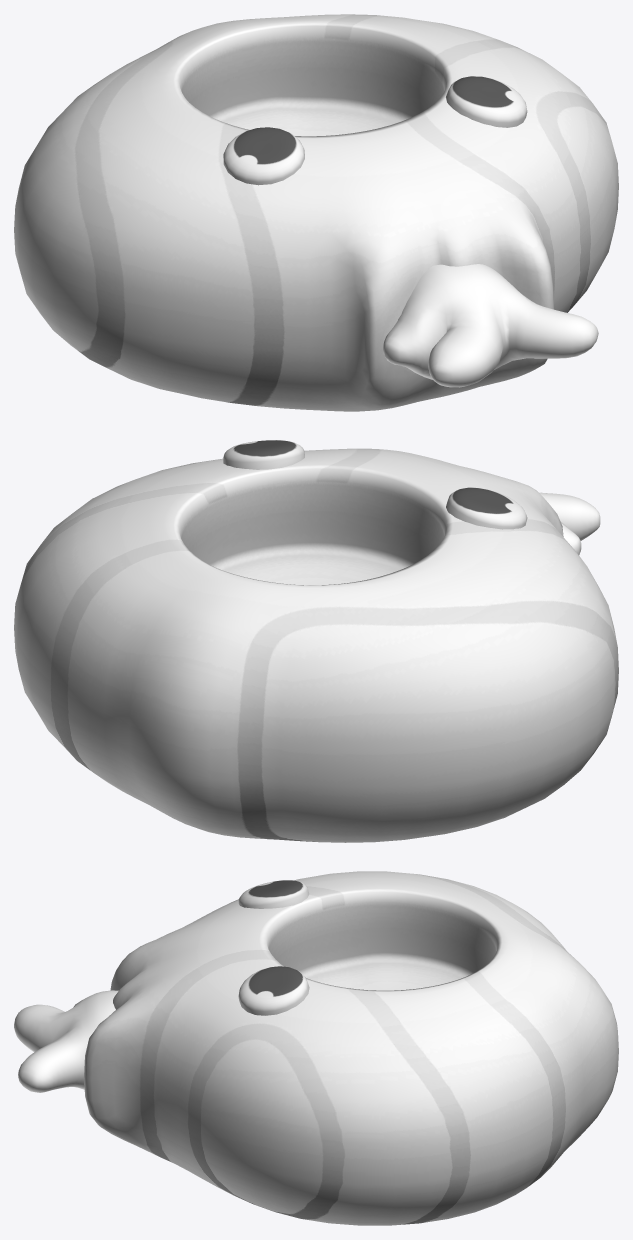
The model's file is Pin_Model_6.fbx.
3 views of the same model, one above another, from view 1: azimuth 30°, elevation 25°; view 2: azimuth 150°, elevation 25°; view 3: azimuth 270°, elevation 25° (orthographic). The views are drawn at different scales.
Parts seen in each view (by area): view 1: Pin_onion, polySurface9; view 2: Pin_onion, polySurface9; view 3: Pin_onion, polySurface9.
Boxes of the visible parts, x1,y1,x2,y2 form: Pin_onion: (14, 14, 618, 411); polySurface9: (223, 76, 527, 185); Pin_onion: (14, 448, 618, 842); polySurface9: (223, 440, 527, 529); Pin_onion: (14, 871, 618, 1225); polySurface9: (238, 880, 309, 1015).
Size of the model in its own units: 0.6788 by 0.3208 by 0.7534.
Materials: 3 (2 with a texture image).
